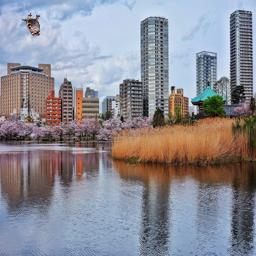Sparrow: (22, 14, 40, 37)
